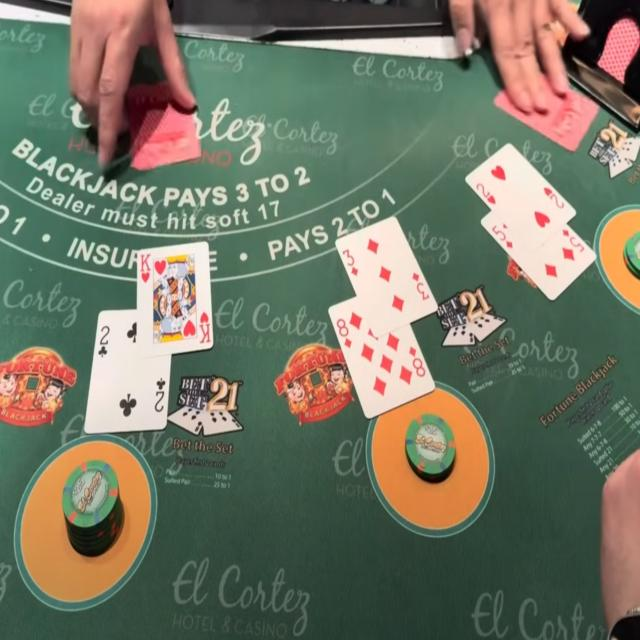2: (98, 321, 112, 348), (474, 178, 490, 198)
3: (342, 246, 357, 267)
5: (490, 222, 506, 242)
8: (334, 314, 349, 338)
K: (138, 251, 154, 273)
